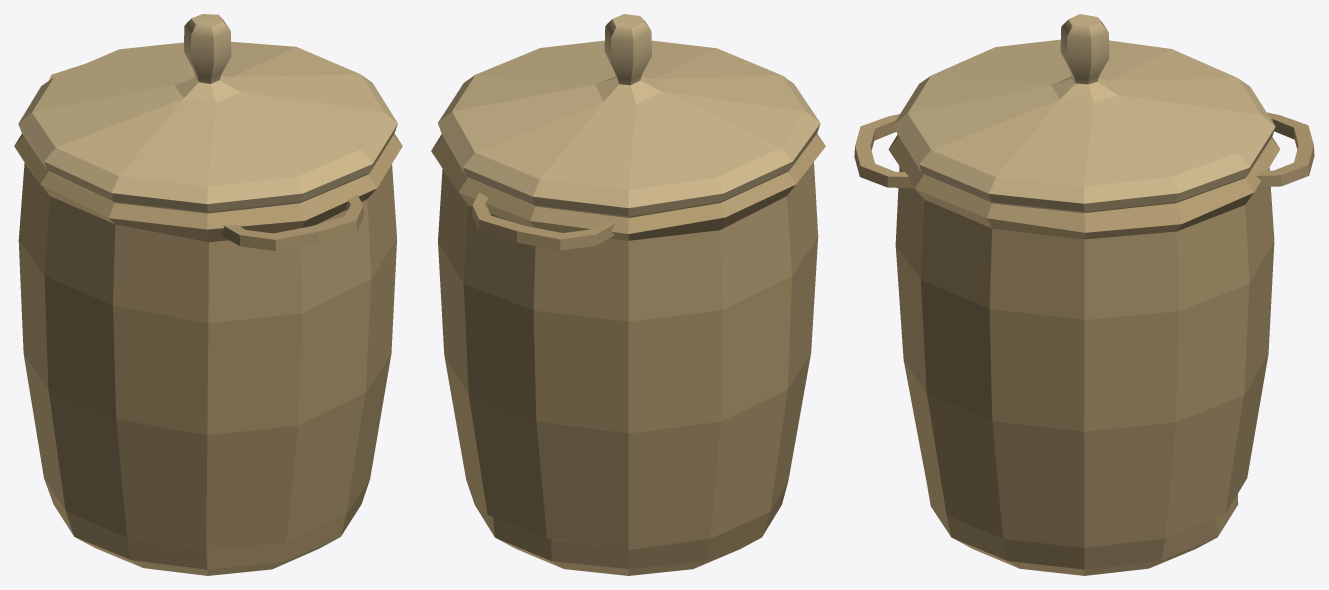
The model's file is SM_Prop_Basket_02.glb.
3 renders of one model, left to right at view 1: azimuth 30°, elevation 25°; view 2: azimuth 150°, elevation 25°; view 3: azimuth 270°, elevation 25°, orthographic.
Parts seen in each view (by area): view 1: SM_Prop_Basket_02; view 2: SM_Prop_Basket_02; view 3: SM_Prop_Basket_02.
Boxes of the visible parts, x1,y1,x2,y2 form: SM_Prop_Basket_02: (14,14,402,575); SM_Prop_Basket_02: (431,14,825,575); SM_Prop_Basket_02: (854,14,1314,575).
Size of the model in its own units: 0.9169 by 1.3 by 1.08.
1 material, 1 textured.
